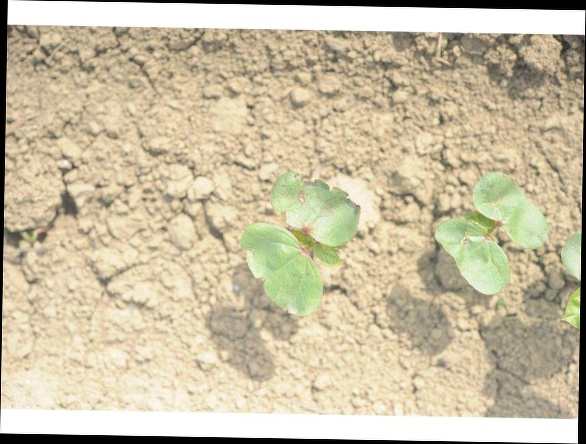cotton: (238, 168, 360, 317), (433, 170, 548, 296)
